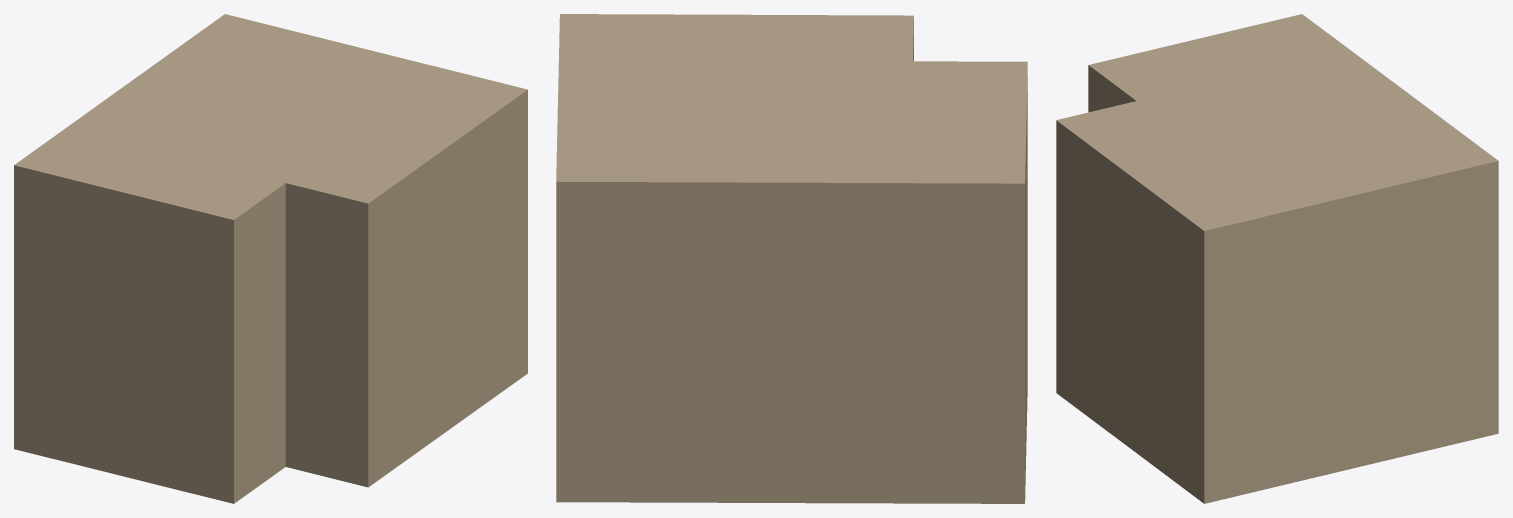
Rendered from bld_100469424.dae.
3 views of the same model, side by side, from view 1: azimuth 30°, elevation 25°; view 2: azimuth 150°, elevation 25°; view 3: azimuth 270°, elevation 25° (orthographic). The views are drawn at different scales.
Parts seen in each view (by area): view 1: bld_100469424; view 2: bld_100469424; view 3: bld_100469424.
Part boxes in pixels (bbox=[...]): bld_100469424: bbox=[14, 14, 527, 503]; bld_100469424: bbox=[556, 14, 1027, 503]; bld_100469424: bbox=[1056, 14, 1498, 503].
Size of the model in its own units: 13.66 by 11.76 by 8.
